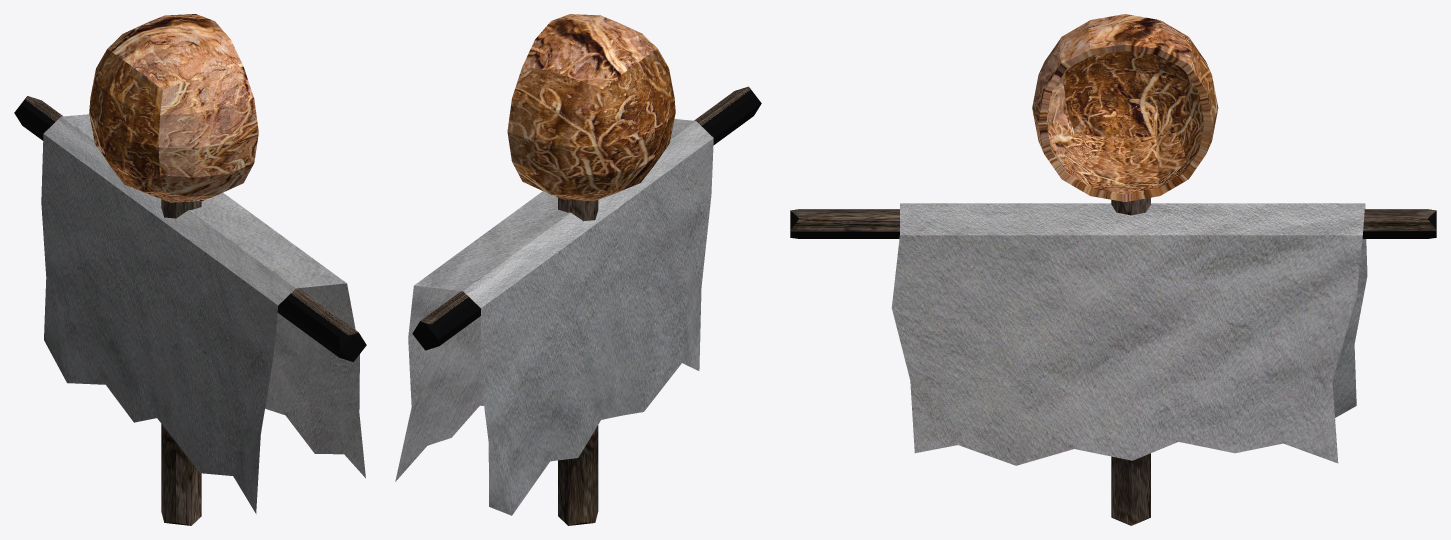
The model's file is JELANGKUNG1.fbx.
3 views of the same model, side by side, from view 1: azimuth 30°, elevation 25°; view 2: azimuth 150°, elevation 25°; view 3: azimuth 270°, elevation 25° (orthographic).
Parts seen in each view (by area): view 1: Plane, Cube, Cube.002, Cube.001; view 2: Plane, Cube, Cube.002, Cube.001; view 3: Plane, Cube, Cube.002, Cube.001.
Part boxes in pixels (x1,y1,x2,y2): Plane: [41, 114, 365, 513]; Cube: [89, 14, 258, 202]; Cube.002: [14, 96, 366, 361]; Cube.001: [161, 199, 201, 525]; Plane: [395, 119, 713, 515]; Cube: [507, 14, 675, 200]; Cube.002: [412, 86, 761, 350]; Cube.001: [558, 197, 598, 525]; Plane: [891, 203, 1367, 465]; Cube: [1032, 14, 1218, 201]; Cube.002: [790, 209, 1436, 238]; Cube.001: [1111, 197, 1150, 525].
Bounding box in the file's own units: 351 × 1029 × 1221.
